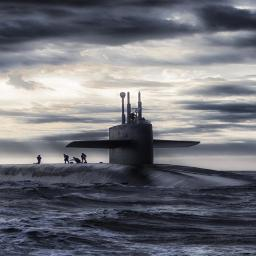submarine: (1, 91, 255, 201)
